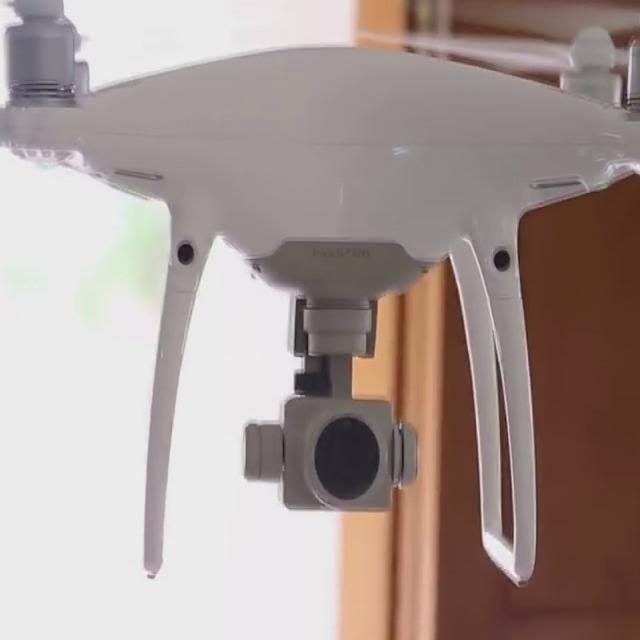drone: (0, 0, 640, 429)
